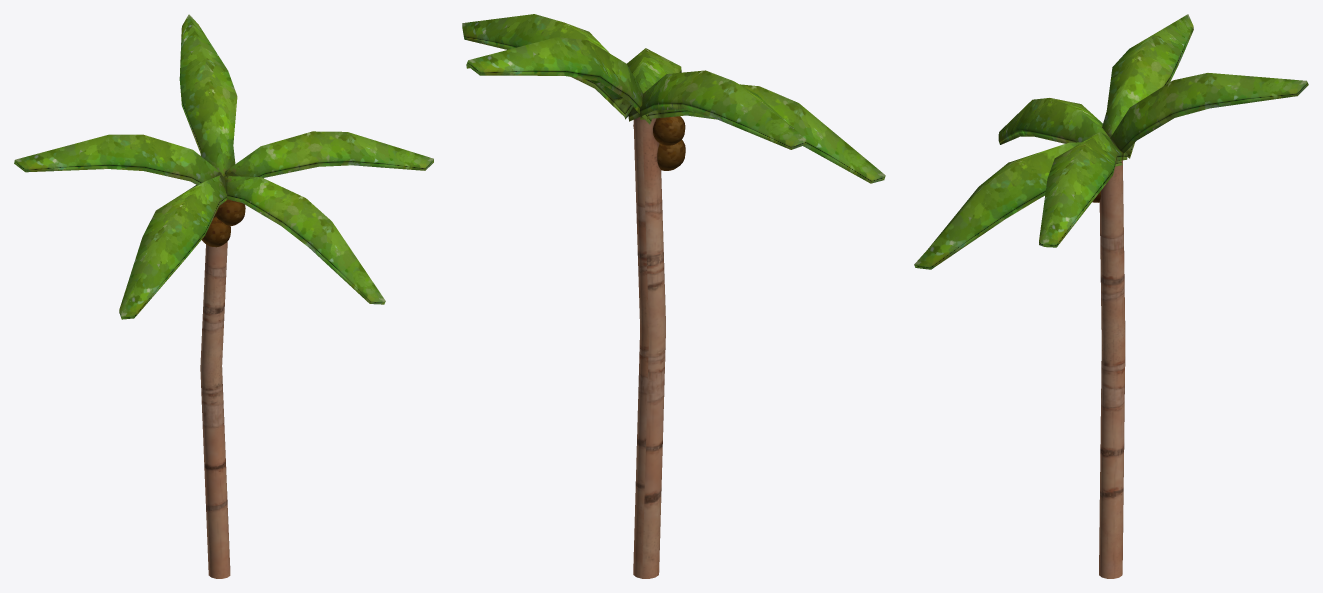
The model's file is Egypt_Tree_1.fbx.
The picture shows the model from 3 angles, left to right: view 1: azimuth 30°, elevation 25°; view 2: azimuth 150°, elevation 25°; view 3: azimuth 270°, elevation 25°; orthographic projection. The views are drawn at different scales.
Visible parts, largest first — view 1: Egypt_Tree_1; view 2: Egypt_Tree_1; view 3: Egypt_Tree_1.
Boxes of the visible parts, <box> form: Egypt_Tree_1: <box>14,14,433,578</box>; Egypt_Tree_1: <box>462,14,885,578</box>; Egypt_Tree_1: <box>914,14,1308,578</box>.
Bounding box in the file's own units: 386 × 500 × 341.
